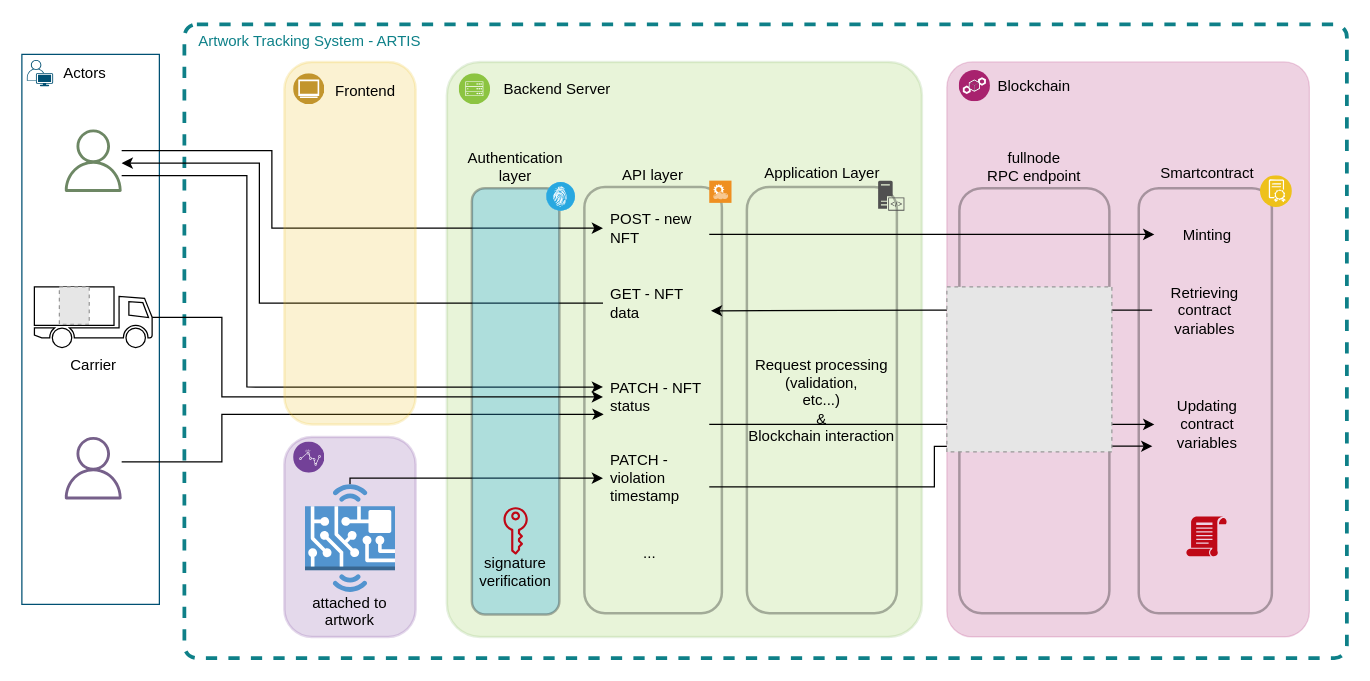
Some shapes in this 1370 by 681 pixel diagram are drawn without their labels. Grey dashed boxes stand in for pictures. The shapes that lost their labels are listed below. From the top down, each one's box as (x1, y1, x2, y2) in pixels, then its label:
(61, 128, 124, 192): Sender / Owner
(61, 436, 124, 499): Recipient
(293, 441, 324, 473): IoT Device
(1186, 516, 1226, 556): role-based authorization
